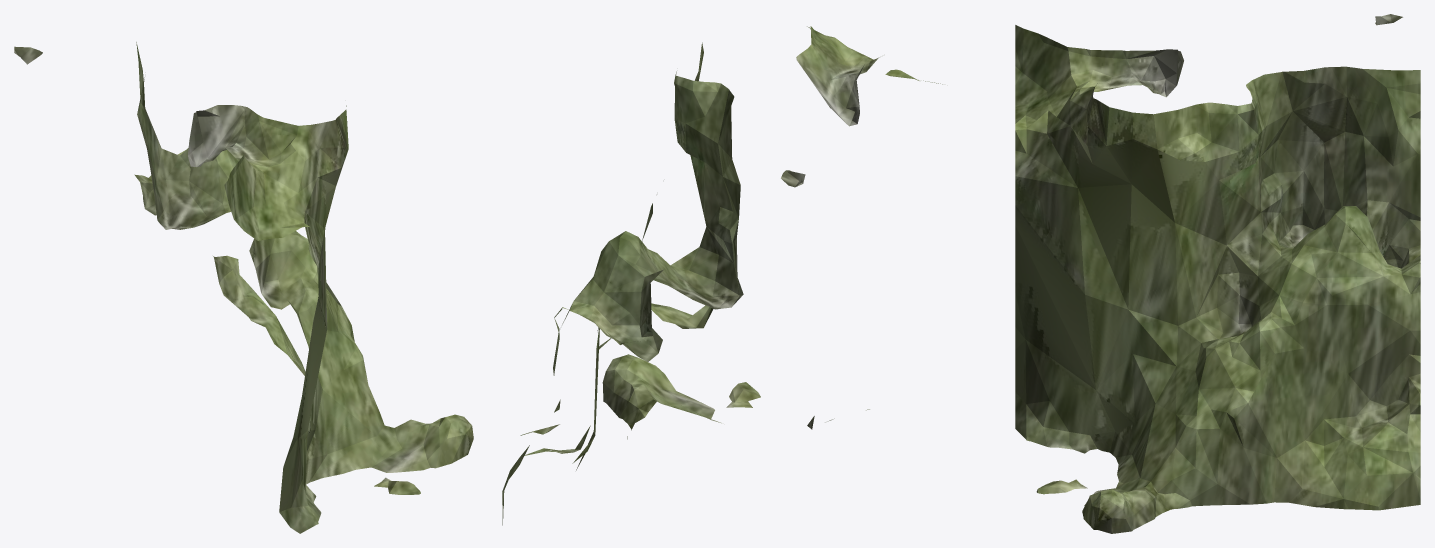
The picture shows the model from 3 angles, left to right: view 1: azimuth 30°, elevation 25°; view 2: azimuth 150°, elevation 25°; view 3: azimuth 270°, elevation 25°; orthographic projection. The views are drawn at different scales.
Bounding box in the file's own units: 2.65 × 2.95 × 2.95.
Materials: 4 (4 with a texture image).
